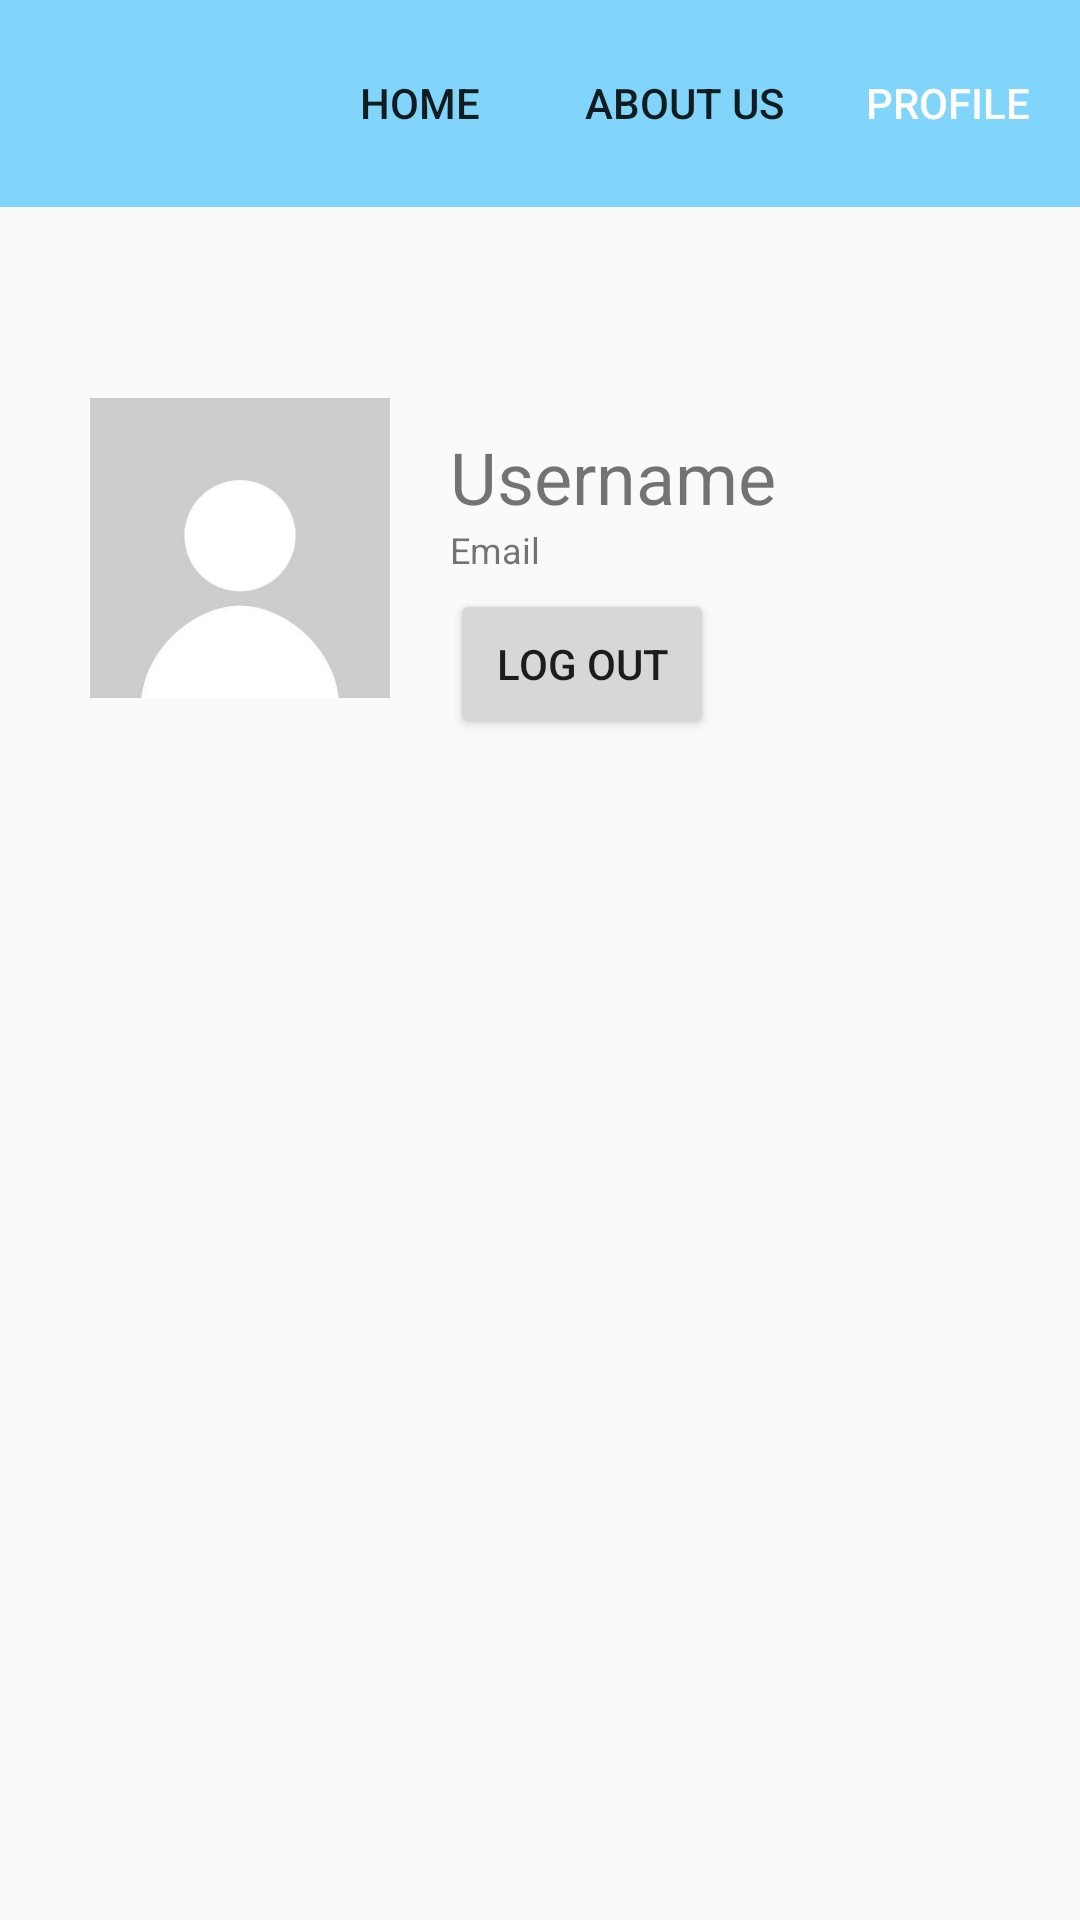

Named icons in this screenshot (1080px×1920px) and their centers, point (x, y):
profile: point (240, 548)
